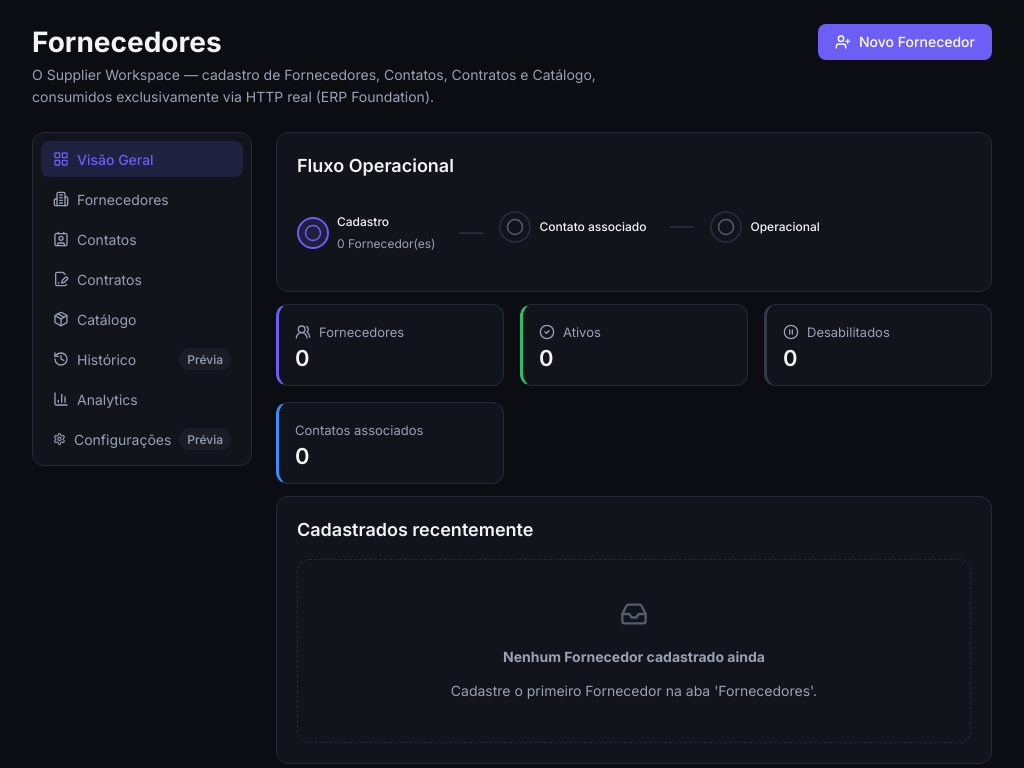
Test: SupplierPage — Supplier Workspace por seções (IMP-205) › edita um Fornecedor já cadastrado — a Tabela reflete o novo nome
Expected: the button "Visão Geral" is shown, [41, 141, 243, 177]
Click the button "Novo Fornecedor". click: (905, 42)
box: [818, 24, 992, 60]
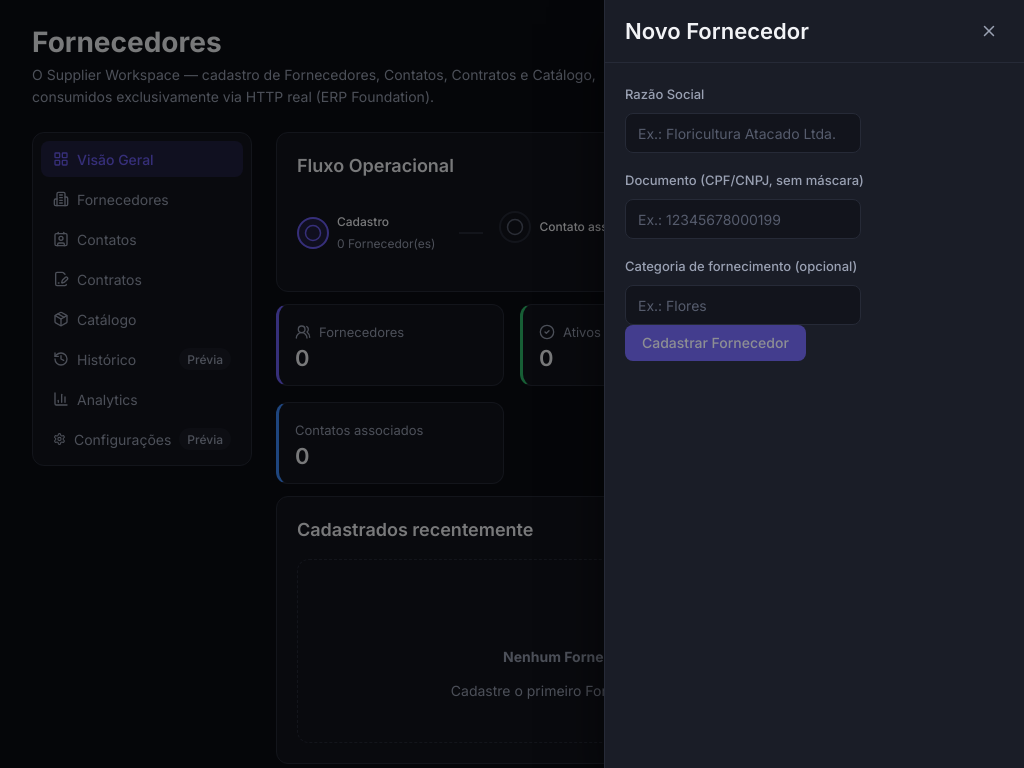
Type "Floricultura Atacado Ltda." into the field labelled "Razão Social". click: (743, 133)
box: [625, 113, 861, 153]
Type "12345678000199" into the field labelled "Documento (CPF/CNPJ, sem máscara)". click: (743, 219)
box: [625, 199, 861, 239]
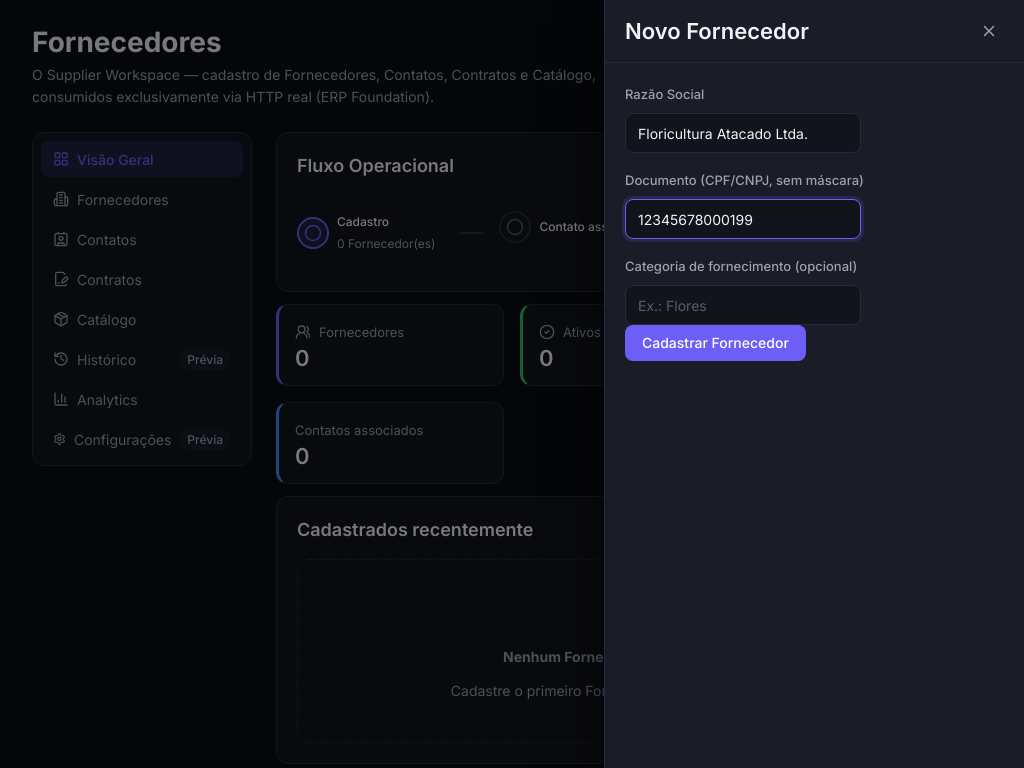
Click the button "Cadastrar Fornecedor". click: (715, 343)
box: [625, 325, 806, 361]
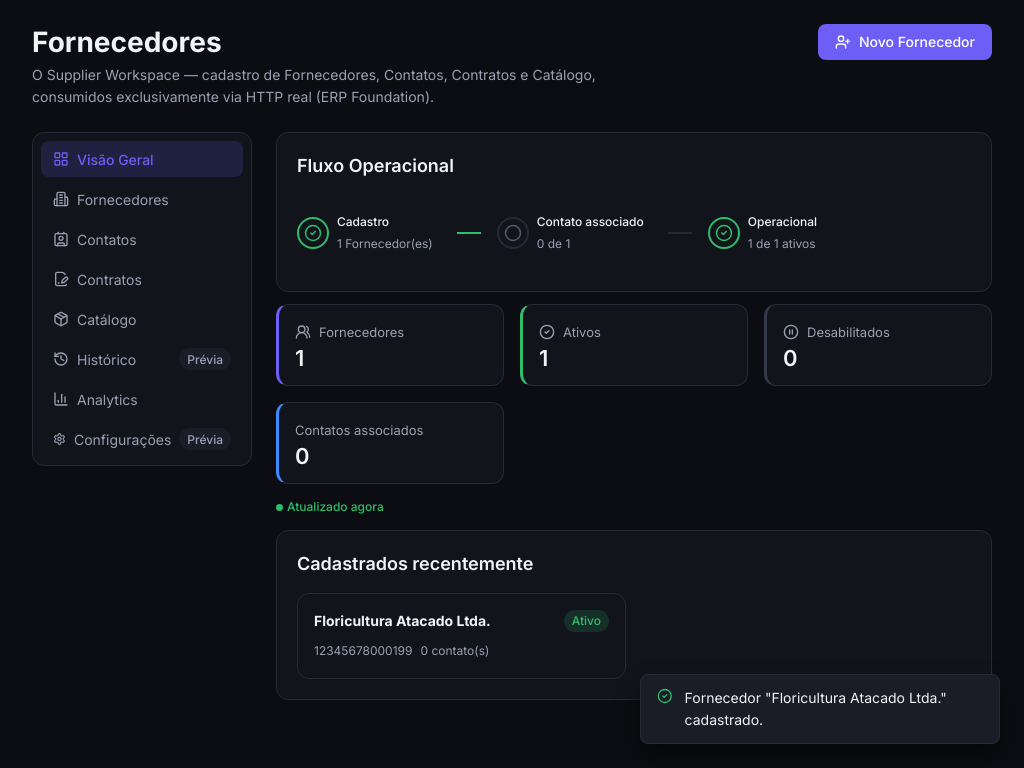
Result: the text "Floricultura Atacado Ltda." is shown at [314, 610, 491, 632]
Click the button "Fornecedores". click: (142, 199)
box: [41, 181, 243, 217]
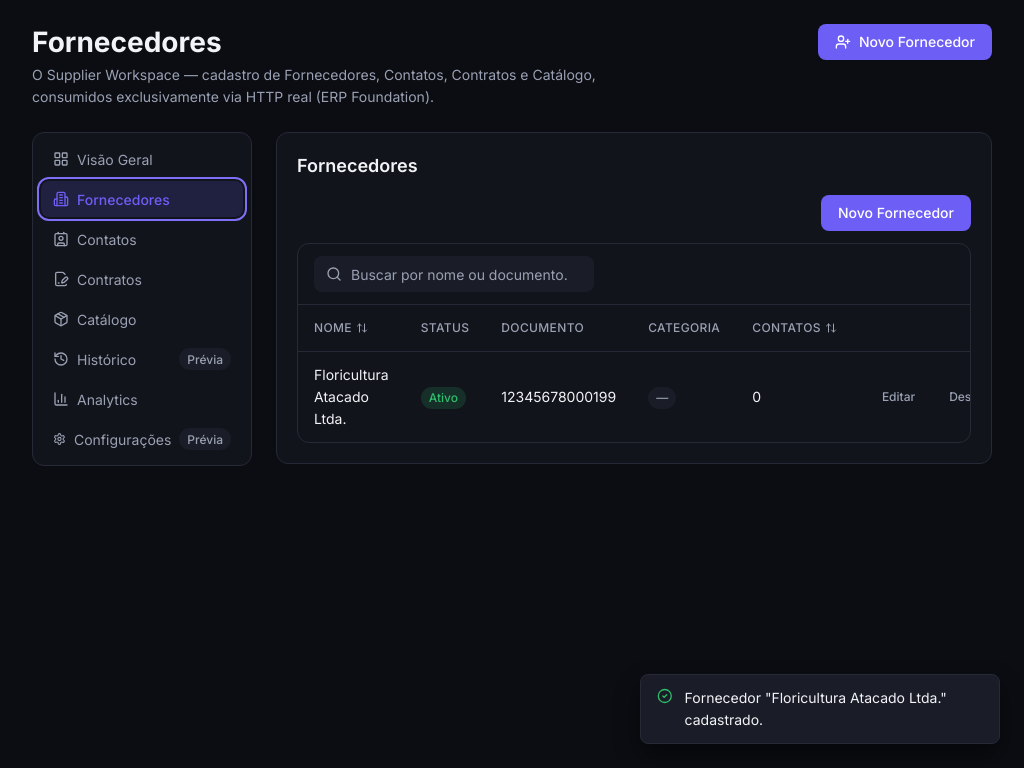
Click the button "Editar". click: (899, 397)
box: [869, 382, 928, 412]
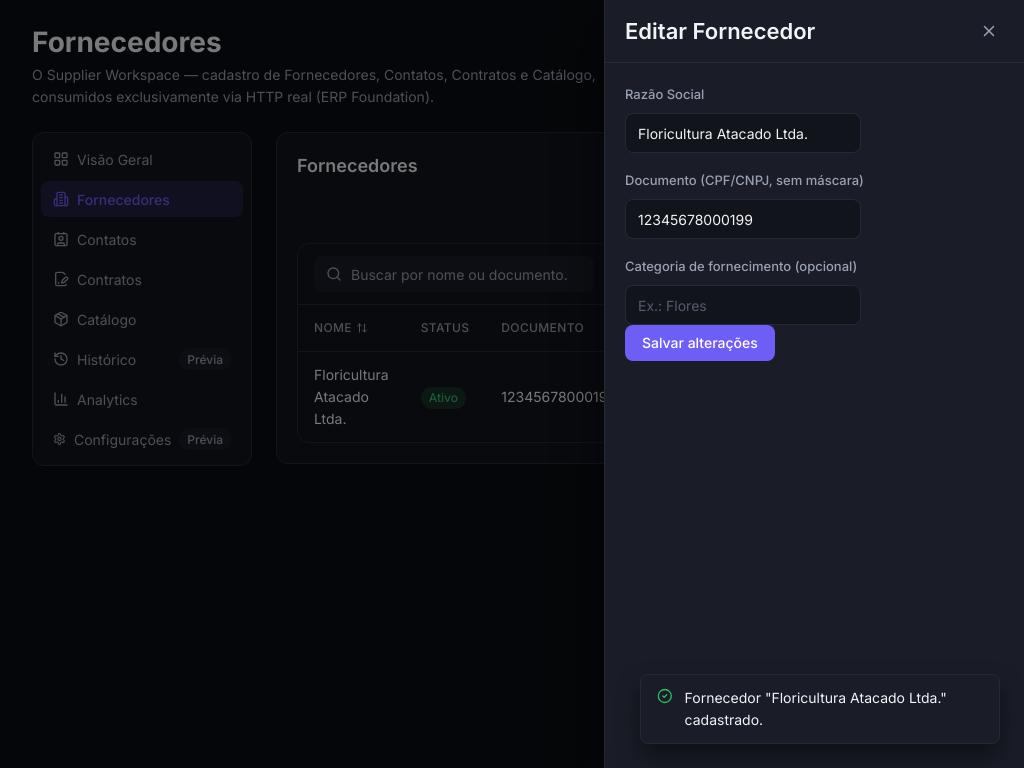
Replace the text in the field labelled "Razão Social" with "Floricultura Atacado S.A.". click: (743, 133)
box: [625, 113, 861, 153]
Click the button "Salvar alterações". click: (700, 343)
box: [625, 325, 775, 361]
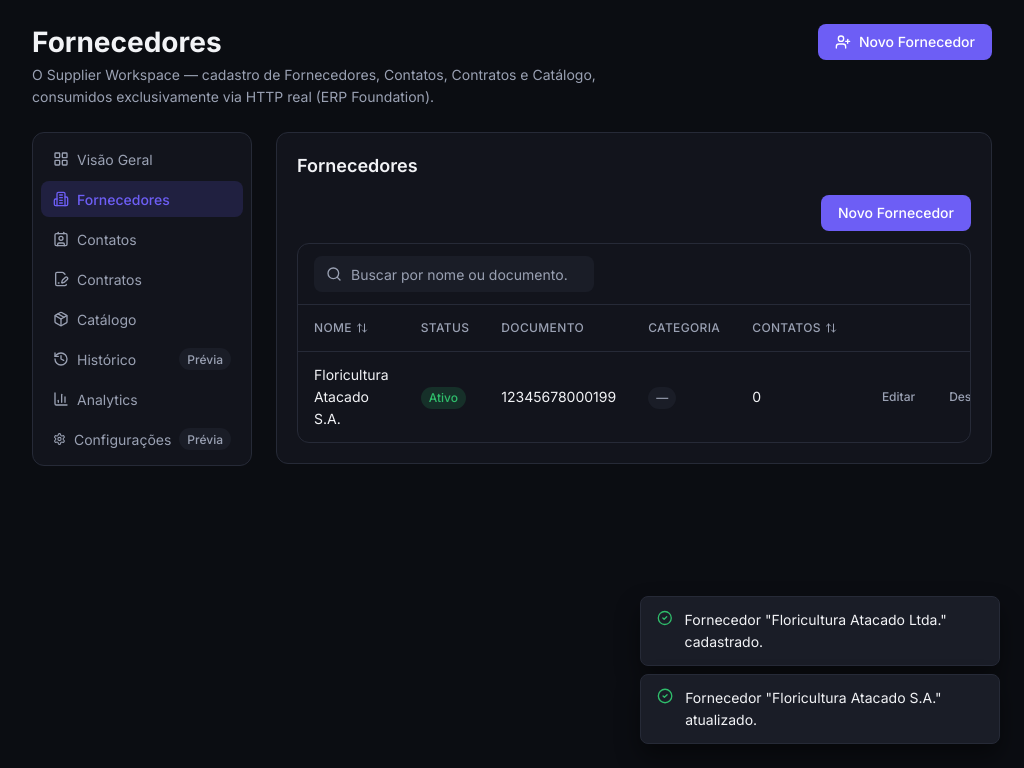
Result: the text "Floricultura Atacado S.A." is shown at [298, 352, 405, 442]
